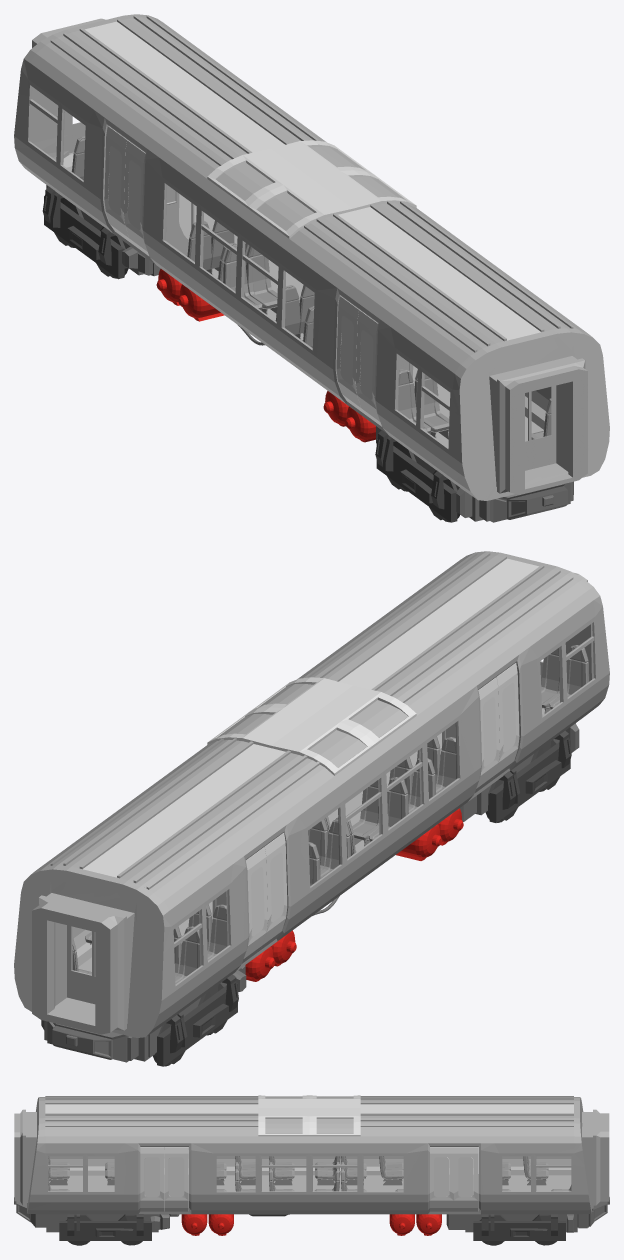
Rendered from Metro Train.fbx.
3 views of the same model, one above another, from view 1: azimuth 30°, elevation 25°; view 2: azimuth 150°, elevation 25°; view 3: azimuth 270°, elevation 25° (orthographic). The views are drawn at different scales.
Visible parts, largest first — view 1: Train, Door L_4, Door L_2, Door L_1, Door L_3; view 2: Train, Door L_1, Door L_3, Door L_4, Door L_2; view 3: Train, Door R_2, Door R_1, Door R_4, Door R_3.
Part boxes in pixels (x1=…): Train: x1=14, y1=14, x2=609, y2=522; Door L_4: x1=104, y1=126, x2=133, y2=244; Door L_2: x1=336, y1=295, x2=365, y2=414; Door L_1: x1=356, y1=310, x2=381, y2=426; Door L_3: x1=124, y1=140, x2=148, y2=255; Train: x1=14, y1=551, x2=609, y2=1066; Door L_1: x1=490, y1=663, x2=519, y2=781; Door L_3: x1=258, y1=833, x2=287, y2=951; Door L_4: x1=242, y1=847, x2=267, y2=963; Door L_2: x1=475, y1=677, x2=499, y2=792; Train: x1=14, y1=1095, x2=609, y2=1245; Door R_2: x1=164, y1=1147, x2=188, y2=1211; Door R_1: x1=140, y1=1147, x2=164, y2=1211; Door R_4: x1=454, y1=1147, x2=478, y2=1211; Door R_3: x1=430, y1=1147, x2=453, y2=1211.
Size of the model in its own units: 41.11 by 52.22 by 231.
